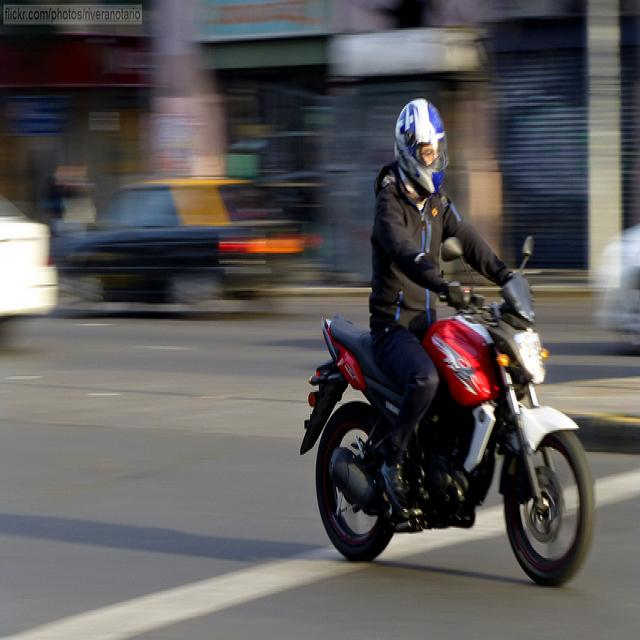motor: (297, 234, 597, 584)
